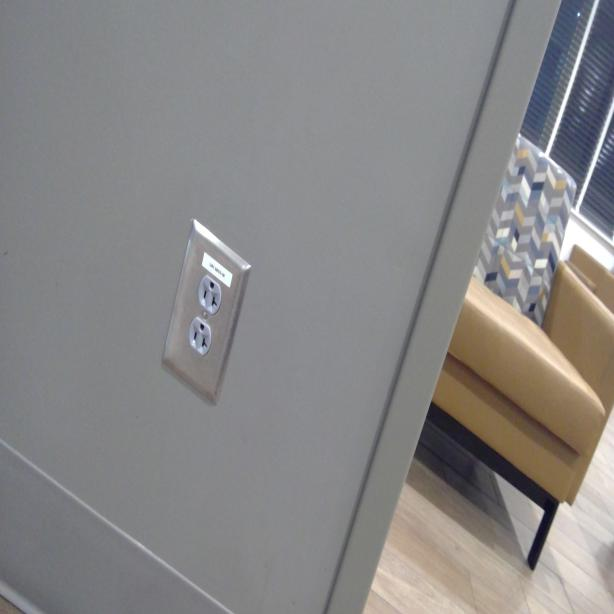typeb: (196, 271, 222, 314), (188, 314, 214, 356)
